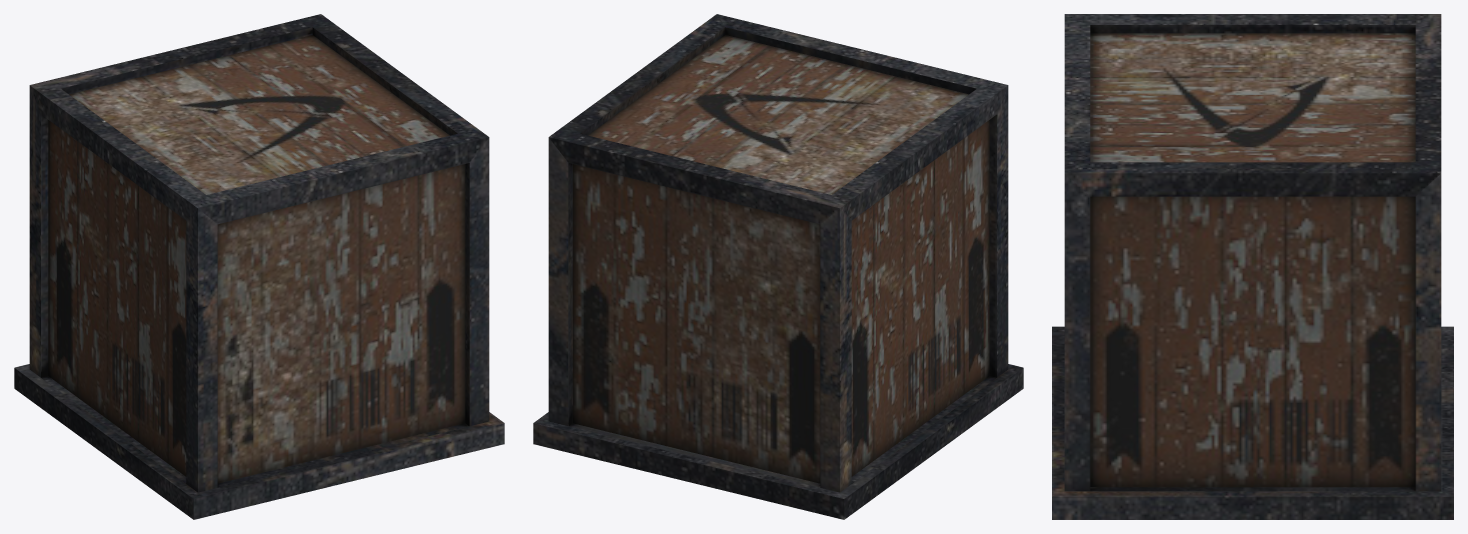
Rendered from AuraCrate_01.FBX.
3 renders of one model, left to right at view 1: azimuth 30°, elevation 25°; view 2: azimuth 150°, elevation 25°; view 3: azimuth 270°, elevation 25°, orthographic. The views are drawn at different scales.
Visible parts, largest first — view 1: AuraCrate_01; view 2: AuraCrate_01; view 3: AuraCrate_01.
Boxes of the visible parts, box(x1,y1,x2,y2) form: AuraCrate_01: box(14, 14, 504, 519); AuraCrate_01: box(533, 14, 1023, 519); AuraCrate_01: box(1052, 14, 1453, 519).
Size of the model in its own units: 95.24 by 89.29 by 95.24.
